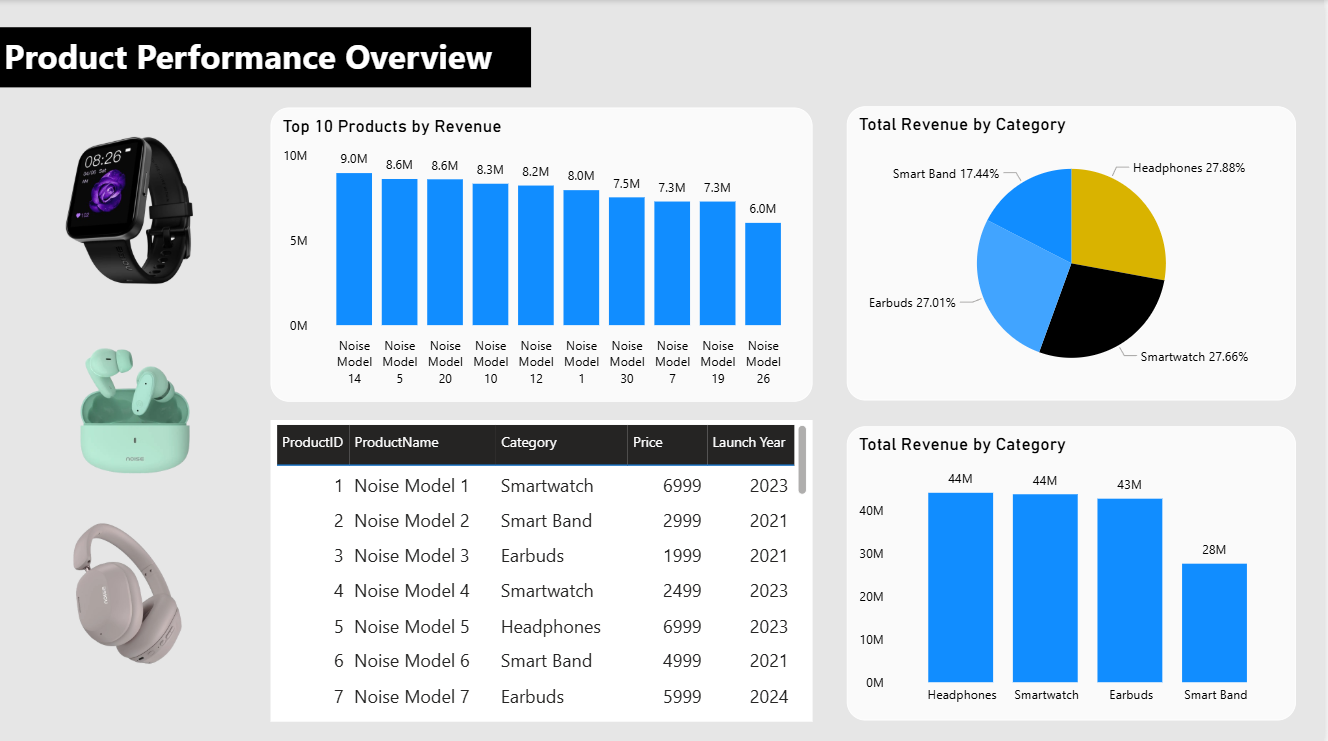

What the dashboard file says about the page in this screenshot:
{"tool":"powerbi","page":{"name":"Product Performance","canvas":[1280,720],"ordinal":1},"visuals":[{"type":"columnChart","fields":{"Y":["sales.Total Revenue"],"Category":["products.Category"]},"box":[819.2,411.7,433.6,284],"z":0},{"type":"textbox","box":[0,26.1,514.6,57.6],"z":1000},{"type":"pieChart","fields":{"Category":["products.Category"],"Y":["sales.Total Revenue"]},"box":[819.2,102.9,433.6,284],"z":2000},{"type":"tableEx","fields":{"Values":["products.ProductID","products.ProductName","products.Category","Sum(products.Price)","Sum(products.LaunchYear)"]},"box":[263.5,404.8,522.8,290.9],"z":3000},{"type":"columnChart","title":"Top 10 Products by Revenue","fields":{"Y":["sales.Total Revenue"],"Category":["products.ProductName"]},"box":[263.5,104.3,522.8,284],"z":4000},{"type":"image","box":[26.1,123.5,201.7,156.4],"z":5000},{"type":"image","box":[24.7,308.7,215.4,172.9],"z":6000},{"type":"image","box":[24.7,496.7,201.7,156.4],"z":7000}]}

Visuals, with their boxes in screenshot pixels (x1, y1, x2, y2), scaled from the page's 1280x720 canvas onto the 1328x741 screenshot:
columnChart - sales.Total Revenue x products.Category: bbox=(850, 424, 1300, 716)
textbox: bbox=(0, 27, 534, 86)
pieChart - products.Category x sales.Total Revenue: bbox=(850, 106, 1300, 398)
tableEx - products.ProductID x products.ProductName: bbox=(273, 417, 816, 716)
"Top 10 Products by Revenue" columnChart: bbox=(273, 107, 816, 400)
image: bbox=(27, 127, 236, 288)
image: bbox=(26, 318, 249, 496)
image: bbox=(26, 511, 235, 672)
